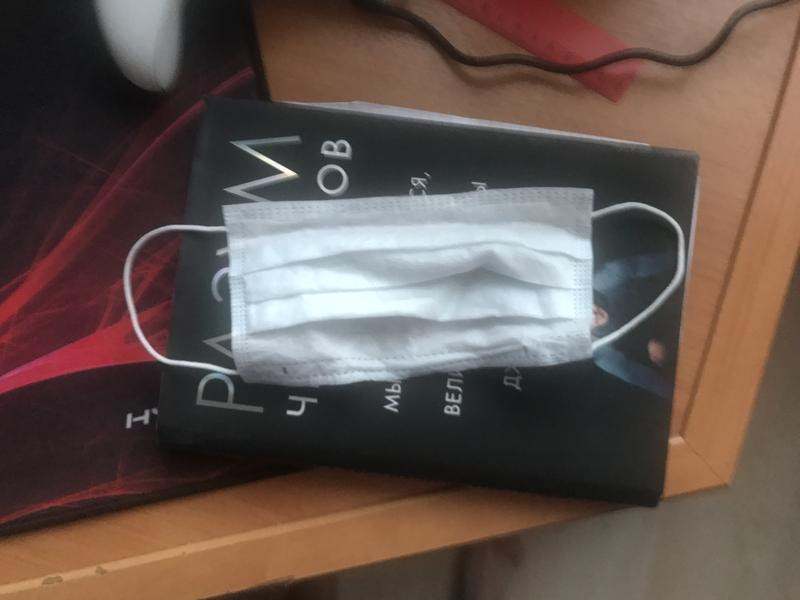medical_mask: (123, 189, 685, 384)
